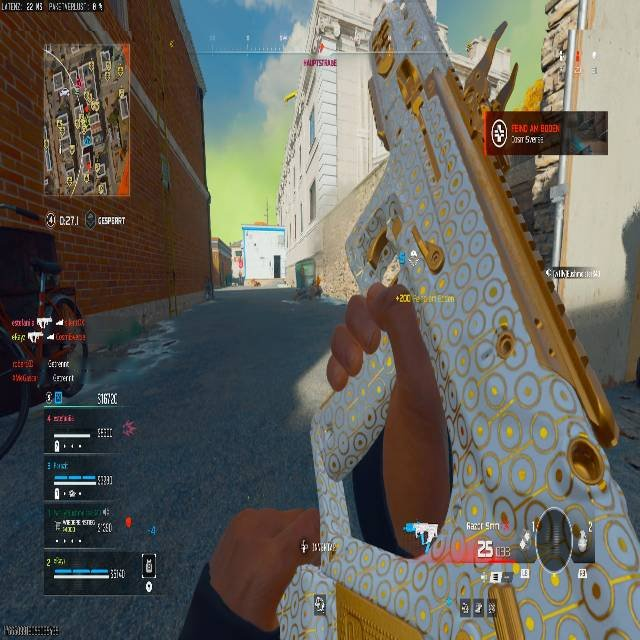player: (170, 221, 640, 640)
